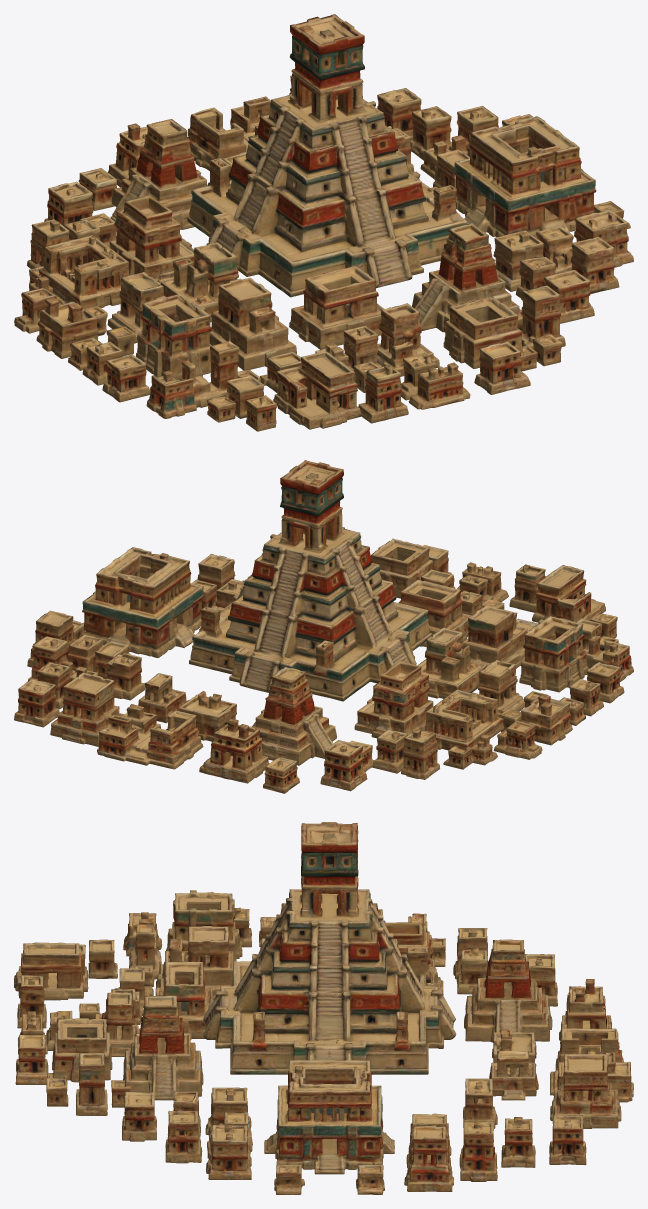
File: Medieval City (Mesoamerican).fbx
The picture shows the model from 3 angles, top to bottom: view 1: azimuth 30°, elevation 25°; view 2: azimuth 150°, elevation 25°; view 3: azimuth 270°, elevation 25°; orthographic projection. The views are drawn at different scales.
Visible parts, largest first — view 1: tripo_node_d79a3858; view 2: tripo_node_d79a3858; view 3: tripo_node_d79a3858.
Boxes of the visible parts, x1,y1,x2,y2 form: tripo_node_d79a3858: (14,14,633,431); tripo_node_d79a3858: (14,460,633,793); tripo_node_d79a3858: (14,822,633,1194).
Size of the model in its own units: 1 by 0.4177 by 0.9978.
